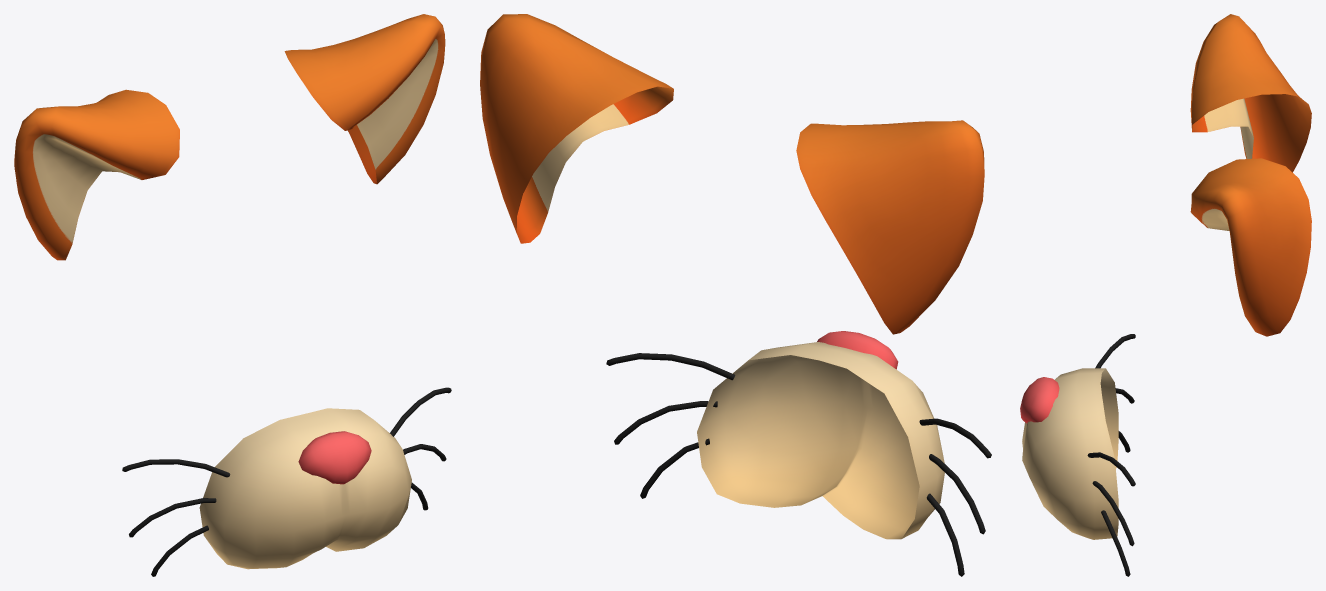
The model's file is AnimalFace_Cat_AR.fbx.
3 views of the same model, side by side, from view 1: azimuth 30°, elevation 25°; view 2: azimuth 150°, elevation 25°; view 3: azimuth 270°, elevation 25° (orthographic). The views are drawn at different scales.
Parts seen in each view (by area): view 1: AnimalFace_Cat; view 2: AnimalFace_Cat; view 3: AnimalFace_Cat.
Boxes of the visible parts, x1,y1,x2,y2 form: AnimalFace_Cat: (14,14,451,576); AnimalFace_Cat: (480,14,991,576); AnimalFace_Cat: (1020,14,1311,576).
Bounding box in the file's own units: 95 × 92.72 × 59.78.
1 material, 1 textured.
